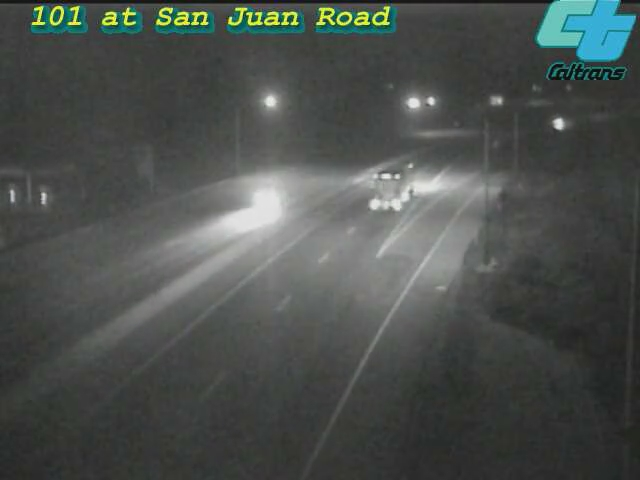vehicle: (223, 163, 303, 243), (353, 147, 433, 227), (536, 98, 586, 148)
